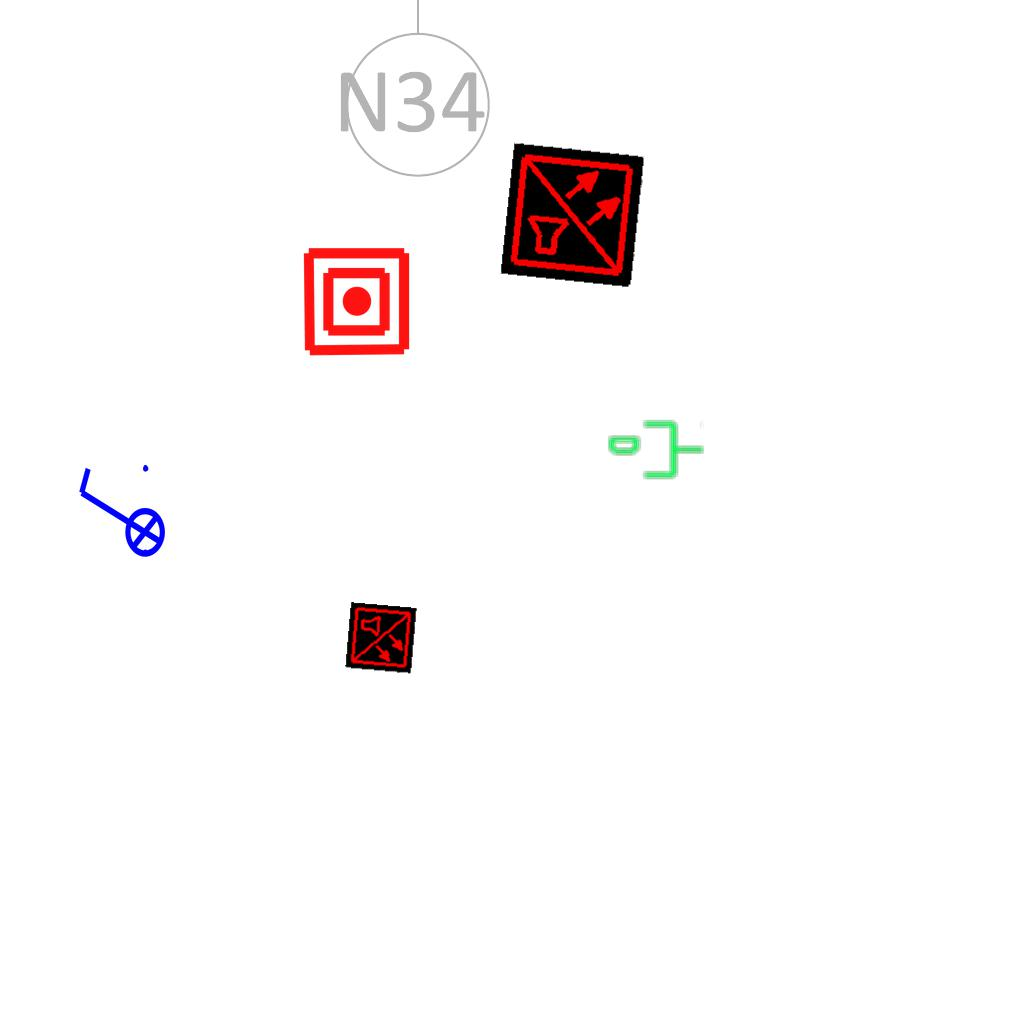Ausschalter_beleuchtet: (71, 459, 167, 571)
Datenanschluss_einfach: (606, 417, 706, 486)
NAM-Nichtautomatischer_Melder: (300, 245, 413, 358)
OKW_Multisensormelder_(Kombination_optischer_Rauch-Kahlenmonoxid_Waerme-Melder): (500, 142, 646, 288), (345, 602, 417, 674)
